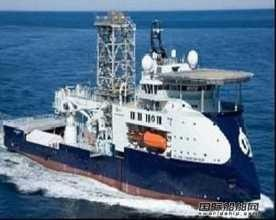otherboat: (1, 13, 266, 201)
